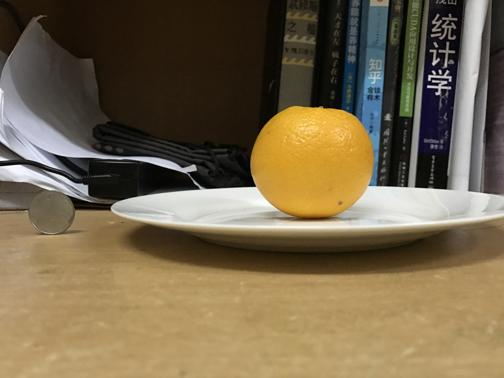coin: (27, 190, 74, 237)
orange: (250, 104, 374, 217)
